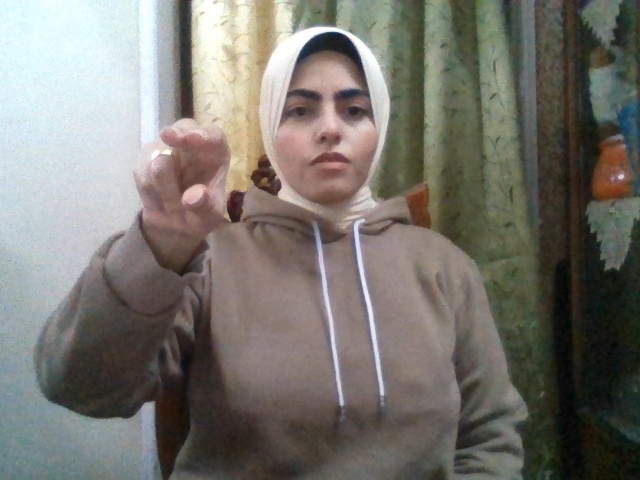no: (133, 117, 231, 238)
